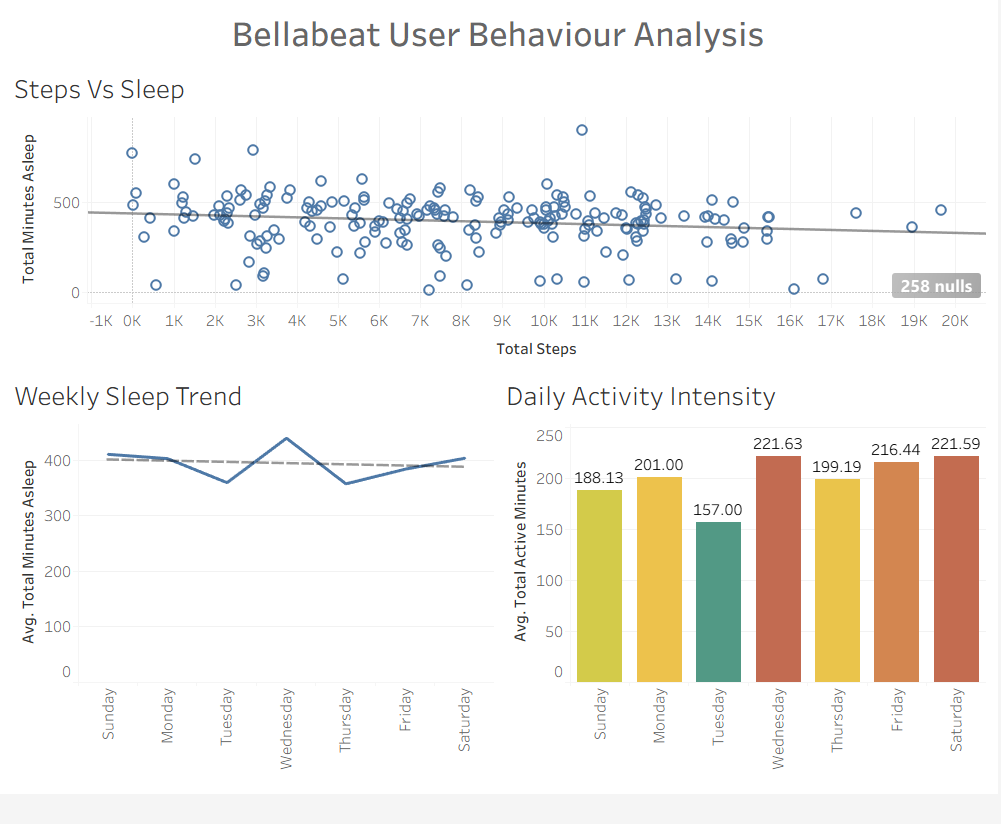

What the dashboard file says about the page in this screenshot:
{"tool":"tableau","page":{"name":"Dashboard 1","canvas":[1000,800],"ordinal":0},"visuals":[{"type":"text","box":[8,8,984,61]},{"type":"worksheet","title":"Steps Vs Sleep","mark":"Automatic","rows":["total_minutes_asleep"],"cols":["TotalSteps"],"box":[8,69,984,307]},{"type":"worksheet","title":"Weekly Sleep Trend","mark":"Line","rows":["total_minutes_asleep"],"cols":["ActivityDate"],"box":[8,376,492,416]},{"type":"worksheet","title":"Daily Activity Intensity","mark":"Bar","rows":["total_active_minutes"],"cols":["ActivityDate"],"box":[500,376,492,416]}]}

Visuals, with their boxes in screenshot pixels (x1, y1, x2, y2), scaled from the page's 1000x800 canvas onto the 1001x824 screenshot:
text: rect(8, 8, 993, 71)
"Steps Vs Sleep" worksheet: rect(8, 71, 993, 387)
"Weekly Sleep Trend" worksheet (Line marks): rect(8, 387, 500, 816)
"Daily Activity Intensity" worksheet (Bar marks): rect(500, 387, 993, 816)
